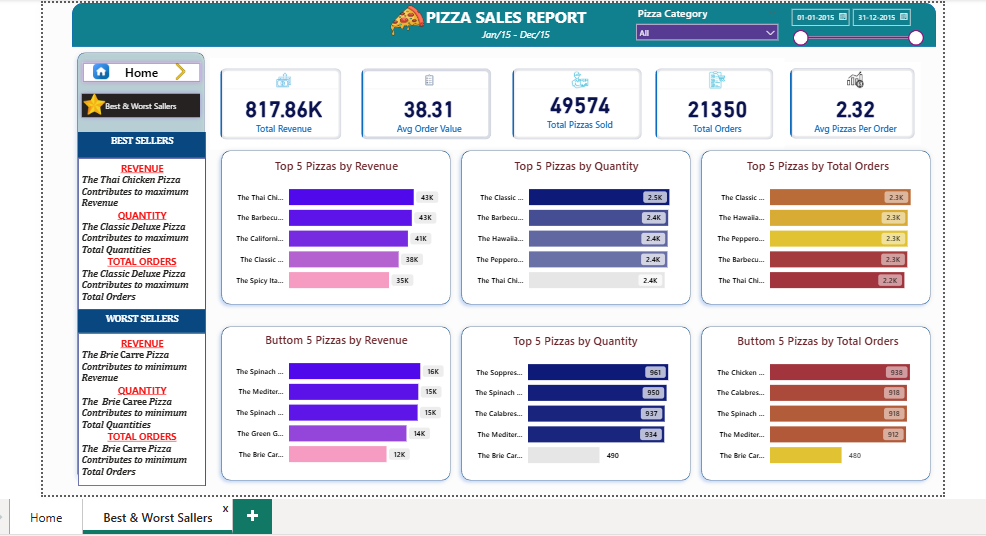

The dashboard page shown, as its layout file describes it:
{"tool":"powerbi","page":{"name":"Best & Worst Sallers ","canvas":[1500,820],"ordinal":1},"visuals":[{"type":"cardVisual","fields":{"Data":["pizza_sales.Total Revenue"]},"box":[278.3,91.7,236.7,153.3],"z":0},{"type":"cardVisual","fields":{"Data":["pizza_sales.Total Orders"]},"box":[1003.3,91.7,231.7,153.3],"z":1000},{"type":"cardVisual","fields":{"Data":["pizza_sales.Total Pizzas Sold"]},"box":[765,91.7,250,153.3],"z":2000},{"type":"cardVisual","fields":{"Data":["pizza_sales.Avg Order Value"]},"box":[513.3,91.7,251.7,153.3],"z":3000},{"type":"cardVisual","fields":{"Data":["pizza_sales.Avg Pizzas Per Order"]},"box":[1235,98.3,228.3,138.3],"z":4000},{"type":"shape","box":[48.3,0,1440,73.3],"z":5000},{"type":"textbox","box":[588.3,0,366.7,58.3],"z":6000},{"type":"textbox","box":[703.3,36.7,170,35],"z":7000},{"type":"image","box":[553.3,0,108.3,58.3],"z":8000},{"type":"shape","box":[288.3,236.7,400,275],"z":9000},{"type":"shape","box":[48.3,73.3,230,731.7],"z":10000},{"type":"textbox","box":[58.3,215,213.3,43.3],"z":11000},{"type":"textbox","box":[58.3,550,213.3,255],"z":12000},{"type":"textbox","box":[58.3,511.7,213.3,38.3],"z":13000},{"type":"textbox","box":[58.3,258.3,213.3,253.3],"z":14000},{"type":"slicer","fields":{"Values":["pizza_sales.pizza_category"]},"box":[978.3,0,256.7,71.7],"z":15000},{"type":"slicer","fields":{"Values":["pizza_sales.order_date"]},"box":[1235,0,241.7,71.7],"z":16000},{"type":"shape","box":[688.3,236.7,400,275],"z":17000},{"type":"shape","box":[1088.3,236.7,400,275],"z":18000},{"type":"shape","box":[1088.3,530,400,275],"z":19000},{"type":"shape","box":[688.3,530,400,275],"z":20000},{"type":"shape","box":[288.3,530,400,275],"z":21000},{"type":"barChart","title":"Top 5 Pizzas by Revenue","fields":{"Category":["pizza_sales.pizza_name"],"Y":["pizza_sales.Total Revenue"]},"box":[305,258.3,368.3,236.7],"z":22000},{"type":"barChart","title":"Top 5 Pizzas by Quantity","fields":{"Category":["pizza_sales.pizza_name"],"Y":["pizza_sales.Total Pizzas Sold"]},"box":[705,258.3,368.3,236.7],"z":23000},{"type":"barChart","title":"Top 5 Pizzas by Total Orders","fields":{"Category":["pizza_sales.pizza_name"],"Y":["pizza_sales.Total Orders"]},"box":[1106.7,258.3,370,236.7],"z":24000},{"type":"barChart","title":"Buttom 5 Pizzas by Total Orders","fields":{"Category":["pizza_sales.pizza_name"],"Y":["pizza_sales.Total Orders"]},"box":[1106.7,550,370,236.7],"z":25000},{"type":"barChart","title":"Buttom 5 Pizzas by Revenue","fields":{"Category":["pizza_sales.pizza_name"],"Y":["pizza_sales.Total Revenue"]},"box":[305,548.3,368.3,236.7],"z":26000},{"type":"barChart","title":"Top 5 Pizzas by Quantity","fields":{"Category":["pizza_sales.pizza_name"],"Y":["pizza_sales.Total Pizzas Sold"]},"box":[703.3,550,368.3,236.7],"z":27000},{"type":"pageNavigator","box":[58.3,91.7,212,48.3],"z":28000},{"type":"pageNavigator","box":[56.7,143.3,213.3,55],"z":29000},{"type":"image","box":[83.3,100,26.7,28.3],"z":30000},{"type":"image","box":[203.3,100,51.7,28.3],"z":31000},{"type":"image","box":[61.7,150,48.3,36.7],"z":32000}]}

Visuals, with their boxes on the page's 1500x820 design canvas (x1, y1, x2, y2). These are canvas units, not pixel positions in the 986x536 screenshot, which may show the page scaled, cropped or inside an application window:
cardVisual - pizza_sales.Total Revenue: locate(278, 92, 515, 245)
cardVisual - pizza_sales.Total Orders: locate(1003, 92, 1235, 245)
cardVisual - pizza_sales.Total Pizzas Sold: locate(765, 92, 1015, 245)
cardVisual - pizza_sales.Avg Order Value: locate(513, 92, 765, 245)
cardVisual - pizza_sales.Avg Pizzas Per Order: locate(1235, 98, 1463, 237)
shape: locate(48, 0, 1488, 73)
textbox: locate(588, 0, 955, 58)
textbox: locate(703, 37, 873, 72)
image: locate(553, 0, 662, 58)
shape: locate(288, 237, 688, 512)
shape: locate(48, 73, 278, 805)
textbox: locate(58, 215, 272, 258)
textbox: locate(58, 550, 272, 805)
textbox: locate(58, 512, 272, 550)
textbox: locate(58, 258, 272, 512)
slicer - pizza_sales.pizza_category: locate(978, 0, 1235, 72)
slicer - pizza_sales.order_date: locate(1235, 0, 1477, 72)
shape: locate(688, 237, 1088, 512)
shape: locate(1088, 237, 1488, 512)
shape: locate(1088, 530, 1488, 805)
shape: locate(688, 530, 1088, 805)
shape: locate(288, 530, 688, 805)
"Top 5 Pizzas by Revenue" barChart: locate(305, 258, 673, 495)
"Top 5 Pizzas by Quantity" barChart: locate(705, 258, 1073, 495)
"Top 5 Pizzas by Total Orders" barChart: locate(1107, 258, 1477, 495)
"Buttom 5 Pizzas by Total Orders" barChart: locate(1107, 550, 1477, 787)
"Buttom 5 Pizzas by Revenue" barChart: locate(305, 548, 673, 785)
"Top 5 Pizzas by Quantity" barChart: locate(703, 550, 1072, 787)
pageNavigator: locate(58, 92, 270, 140)
pageNavigator: locate(57, 143, 270, 198)
image: locate(83, 100, 110, 128)
image: locate(203, 100, 255, 128)
image: locate(62, 150, 110, 187)
